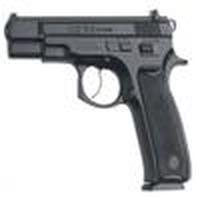gun: (1, 13, 200, 194)
